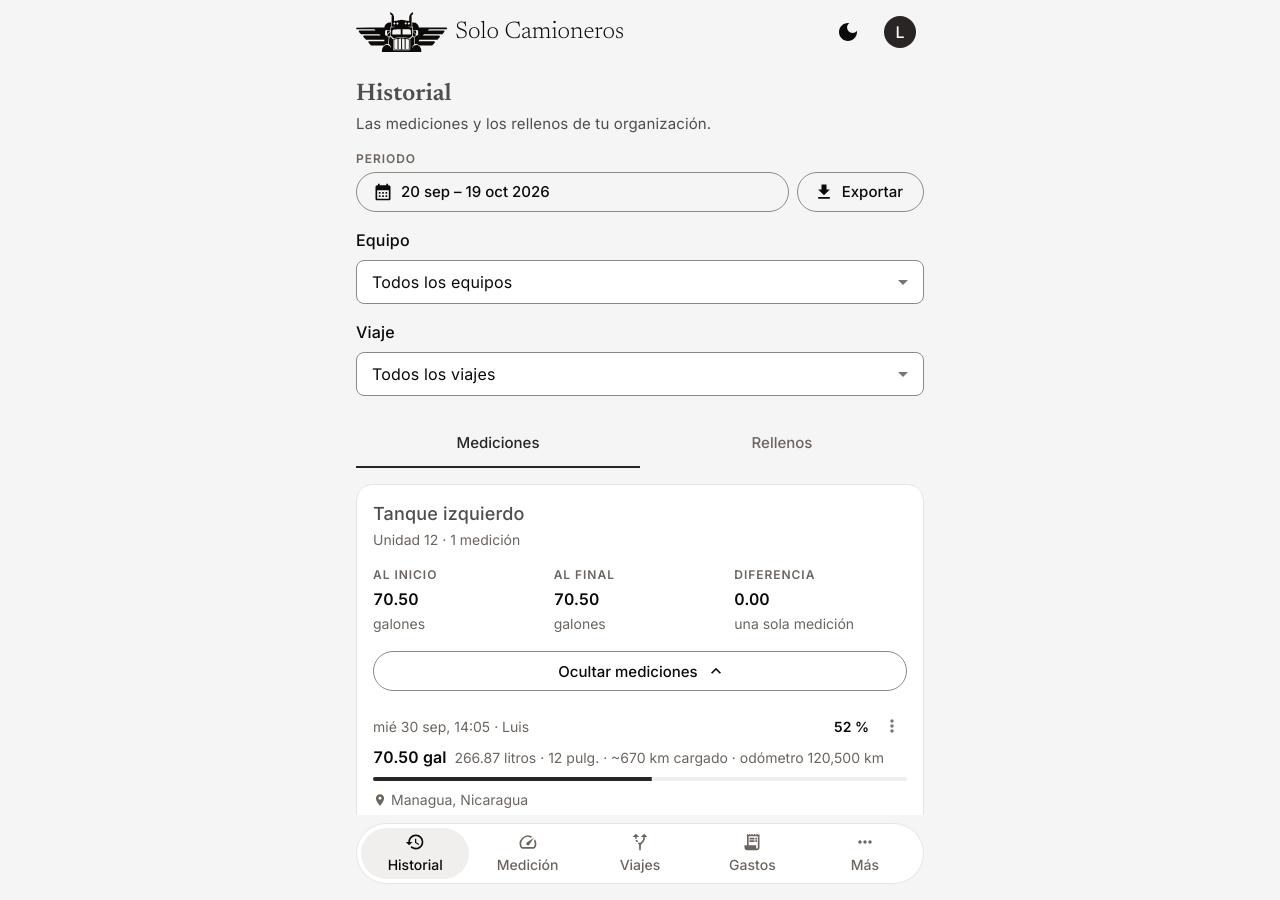
Test case: the edit form rejects more inches than the tank allows
Click the button named "Opciones" at (892, 726), box x1=877 y1=711 x2=907 y2=741
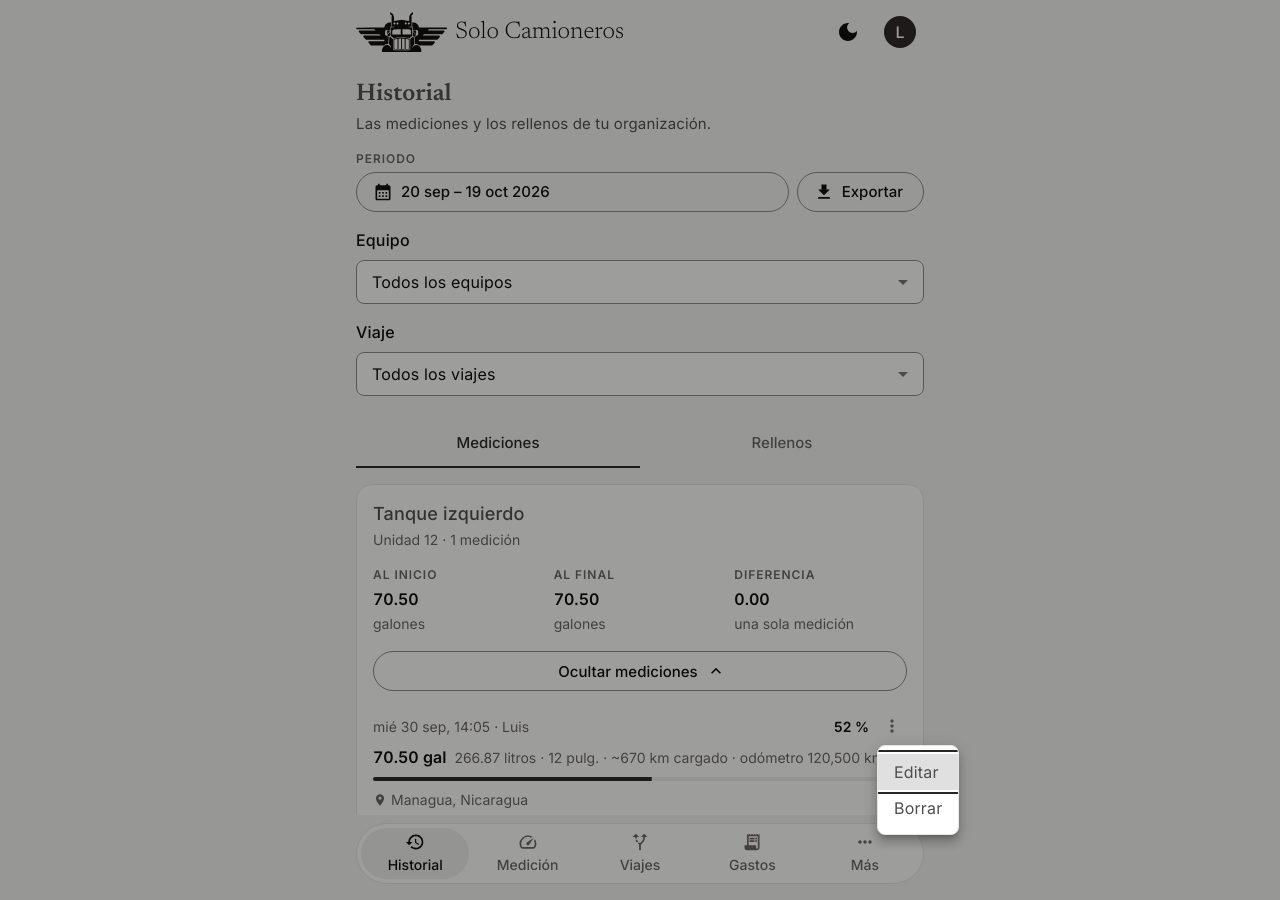
Click the menu item "Editar" at (918, 772), box x1=878 y1=754 x2=958 y2=790
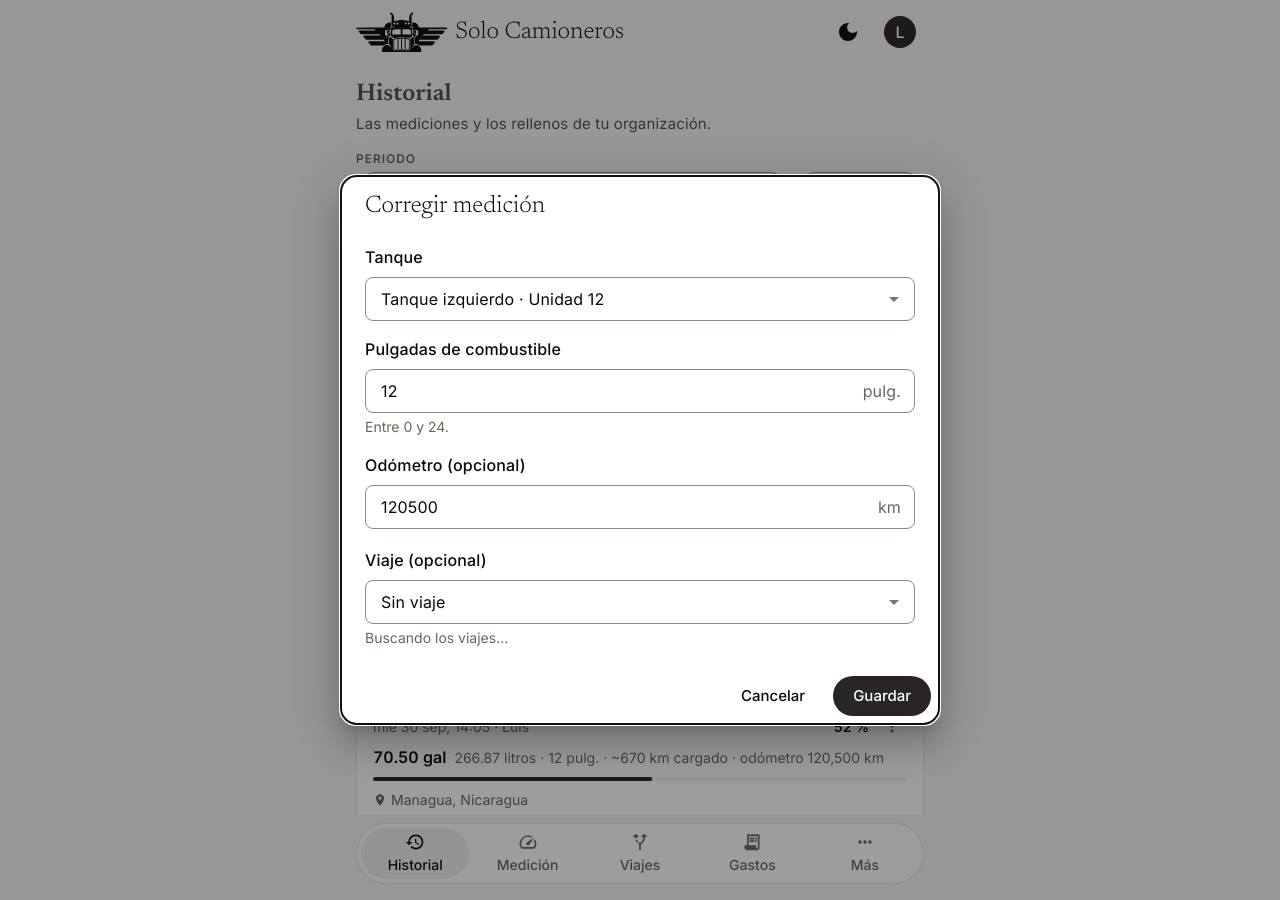
Replace the text in the field labelled "Pulgadas de combustible" with "40" at (610, 391), box x1=365 y1=369 x2=855 y2=413
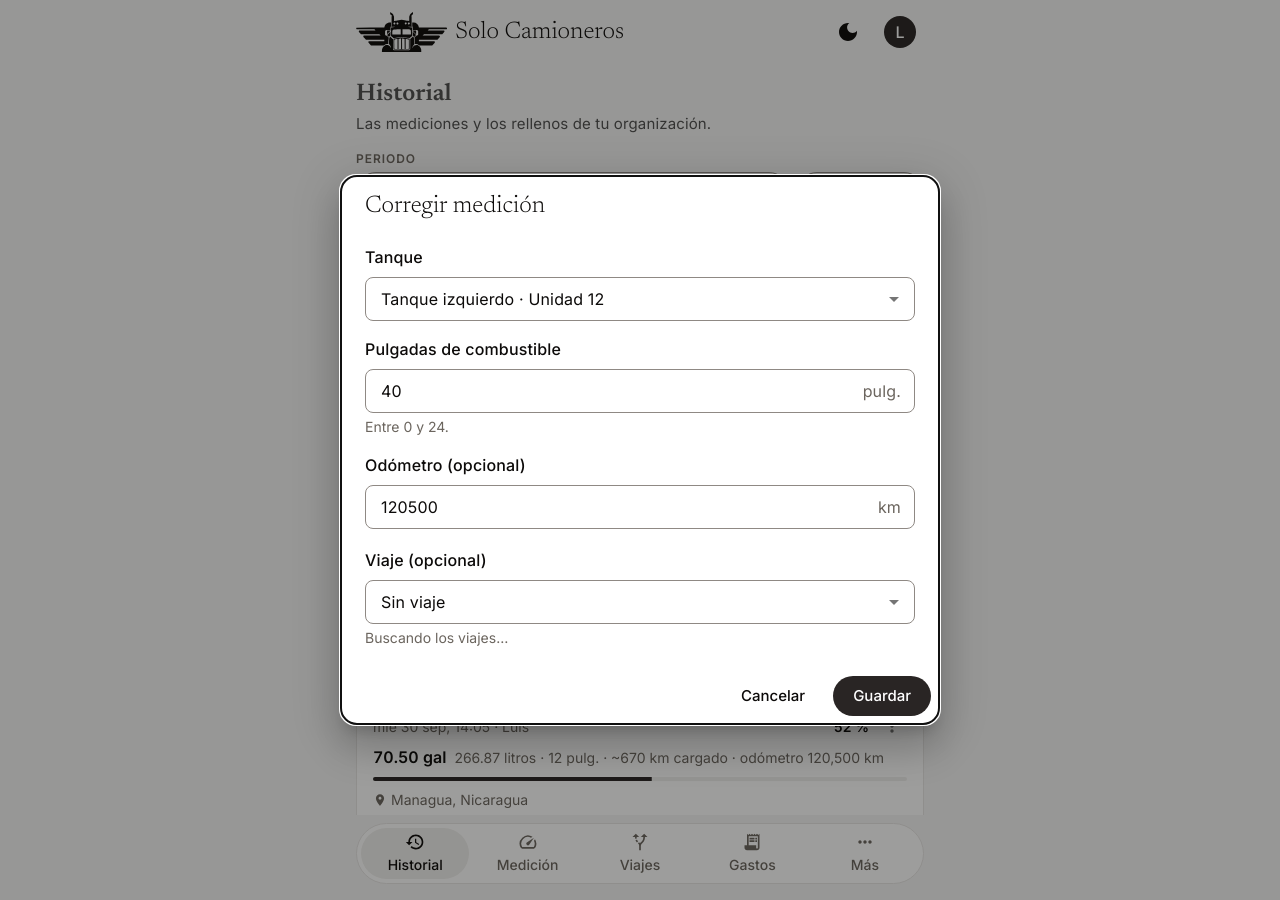
Click the button "Guardar" at (882, 696), box x1=833 y1=676 x2=931 y2=716
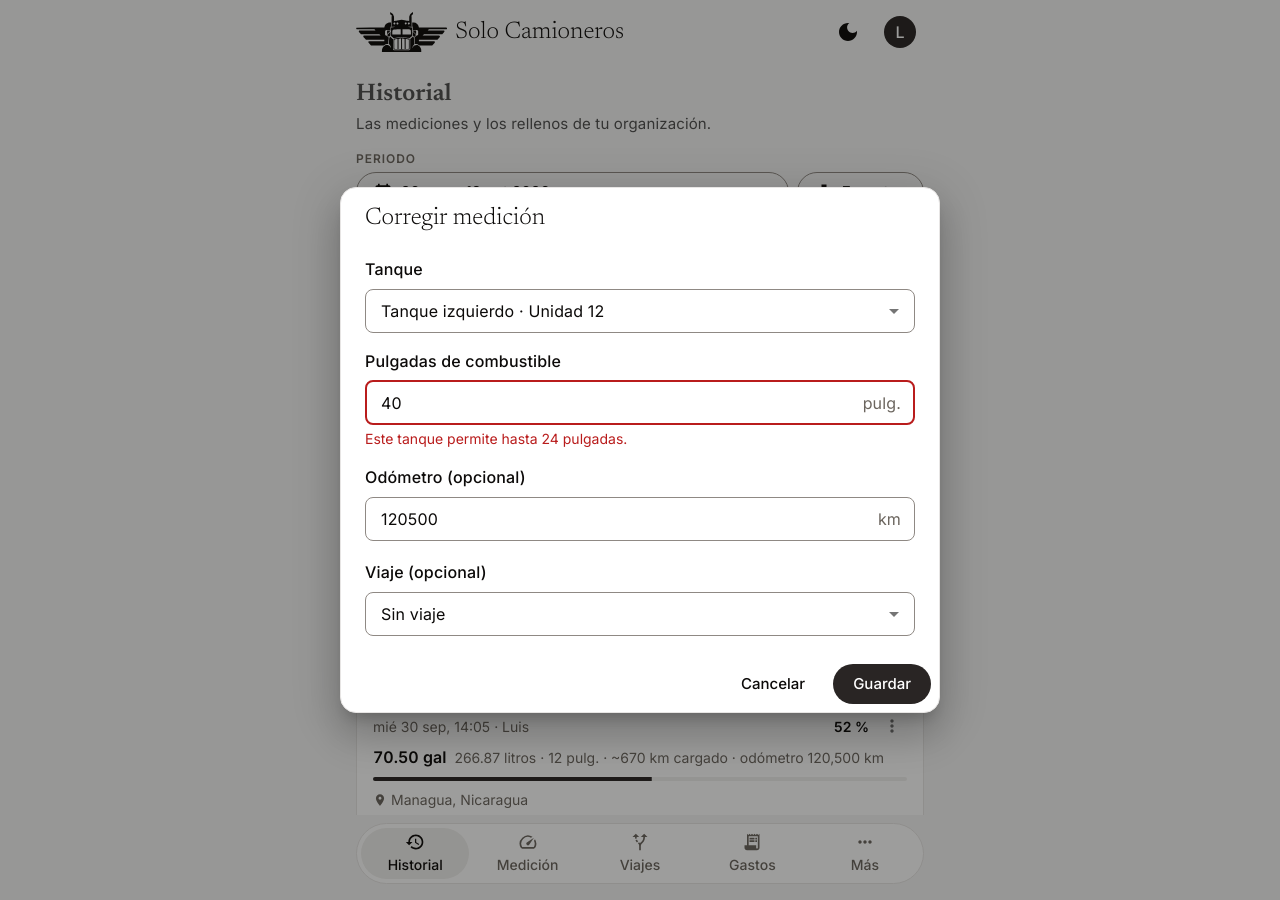
Expected: the text "Este tanque permite hasta 24 pulgadas." is shown, x1=365 y1=430 x2=627 y2=447
